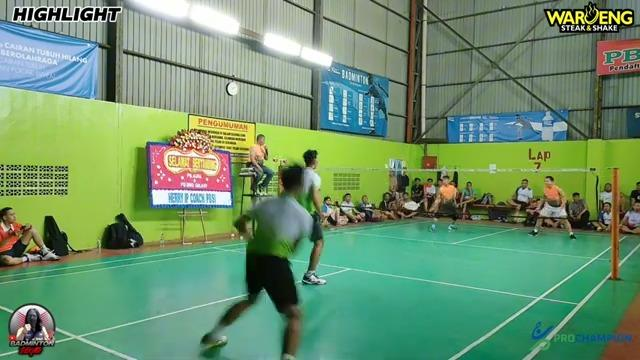Shuttlecock: (383, 162, 391, 170)
